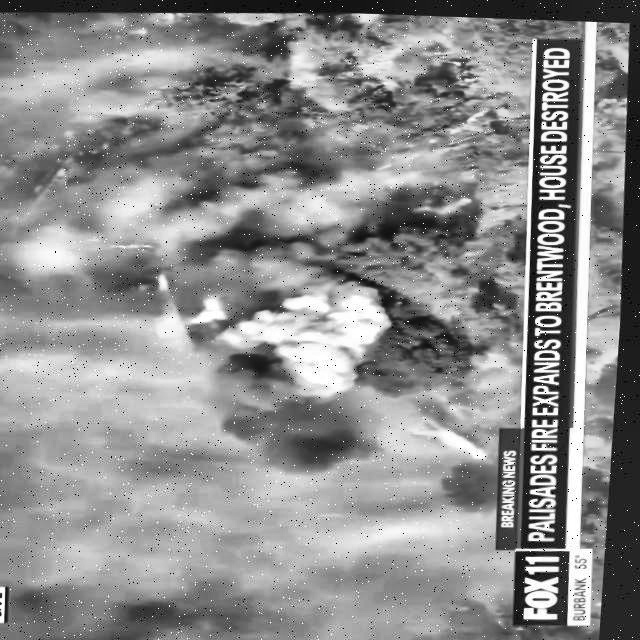Smoke: (0, 136, 435, 302), (157, 274, 408, 429)
